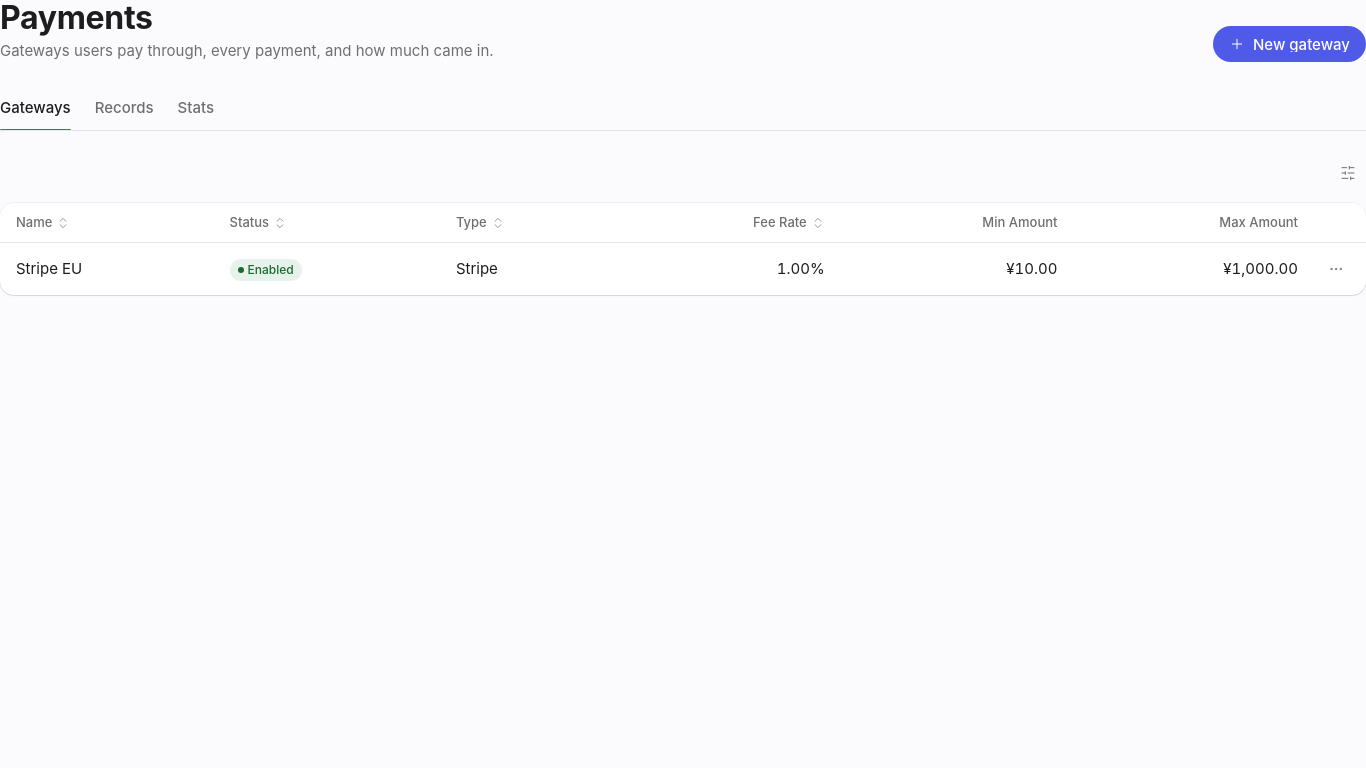
Scenario: Admin Payment › dialogs and feedback › shows a payment record in a side sheet that closes with Esc
Click the tab "Records" at x=124, y=108, box top-left (95, 86), bottom-right (154, 130)
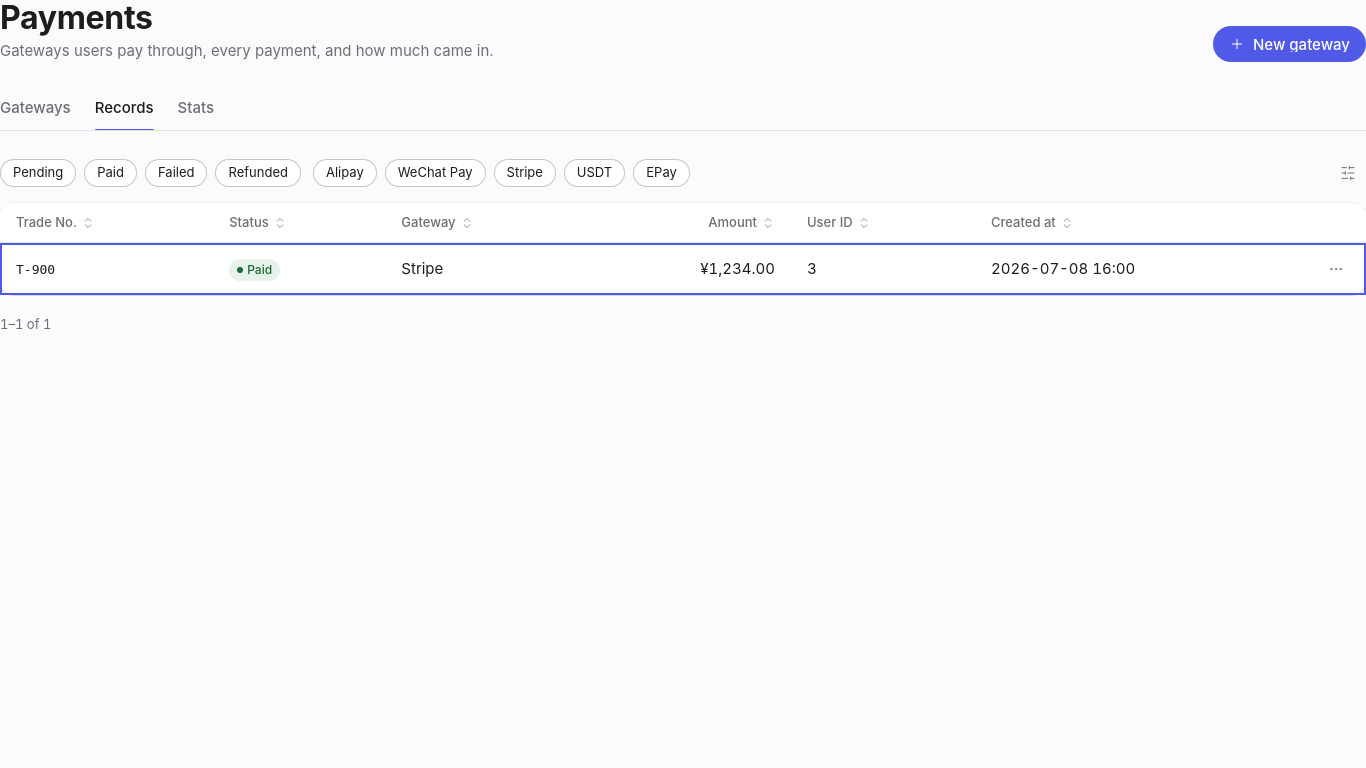
Press Enter
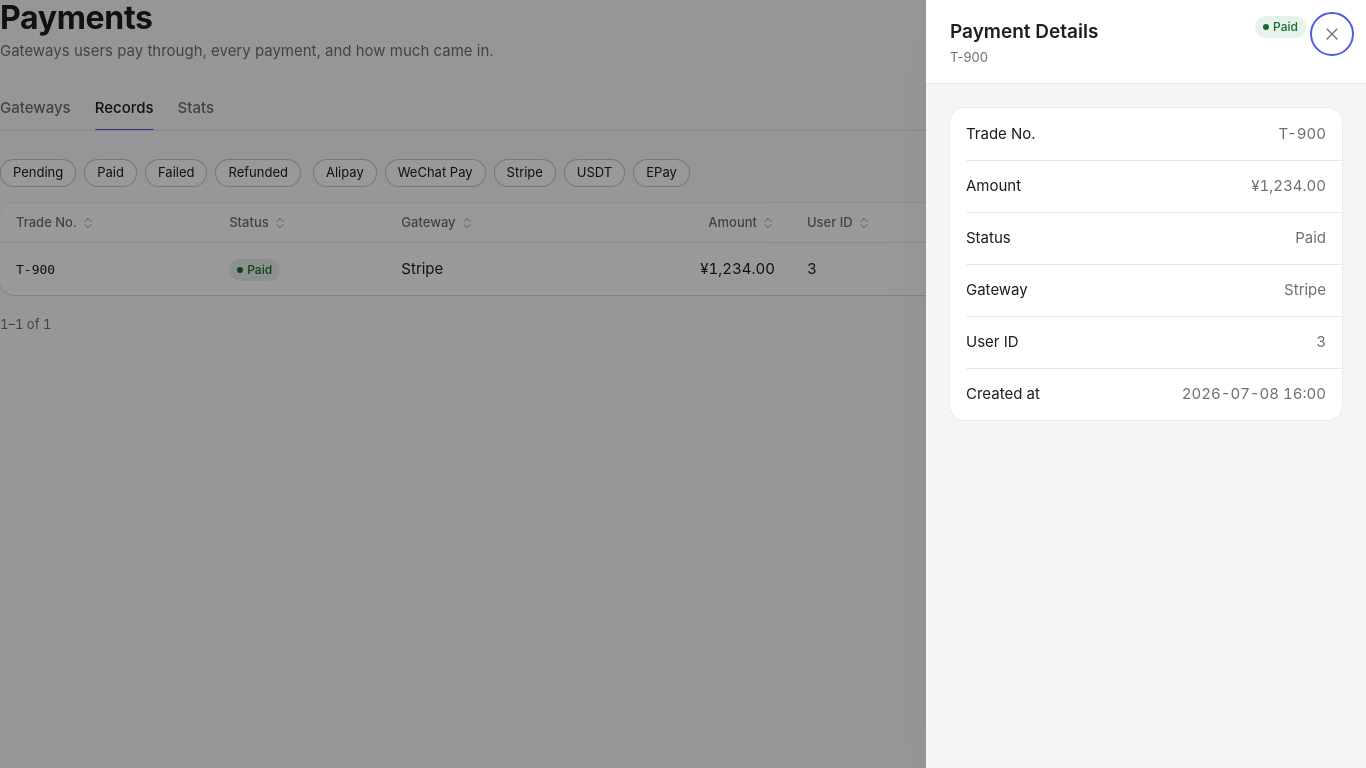
Now the dialog "Payment Details" shows "T-900", box top-left (950, 49), bottom-right (988, 65)
Press Escape
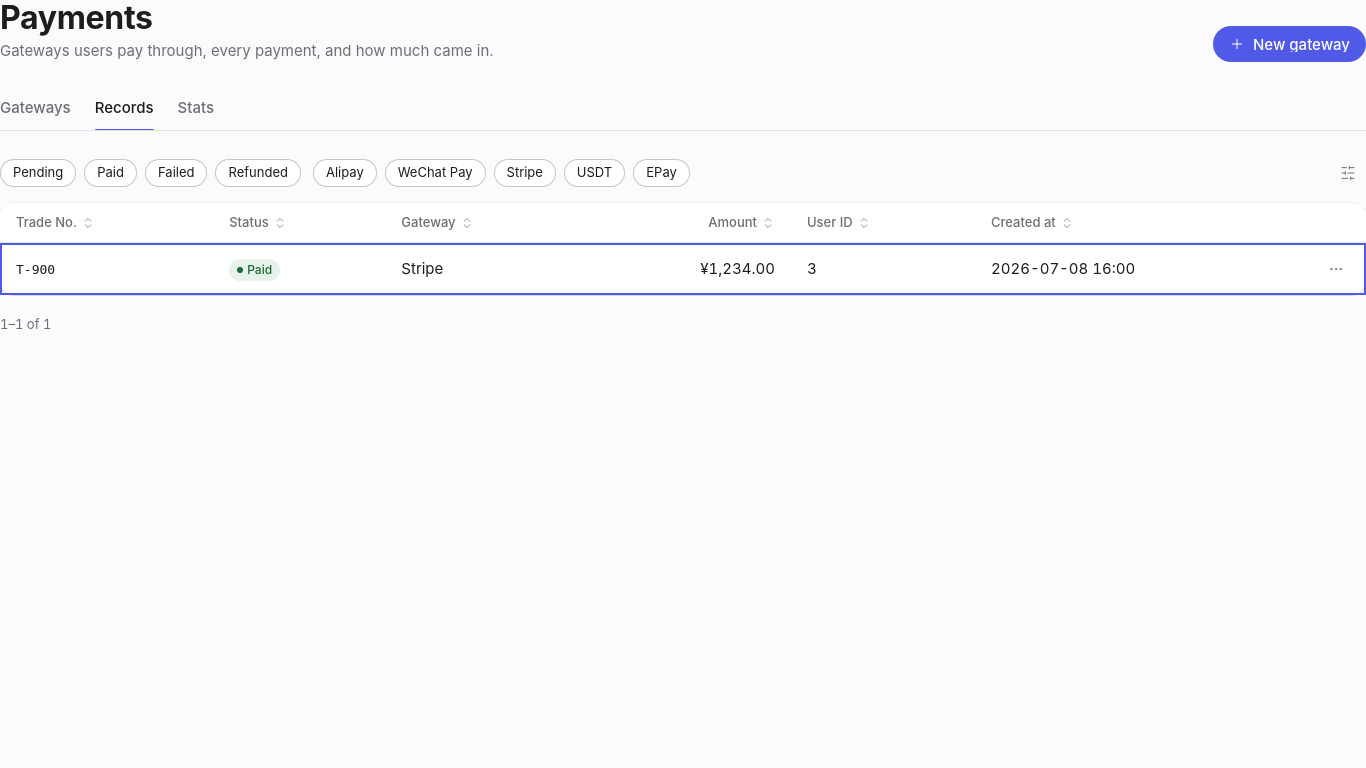
Now the dialog is gone
